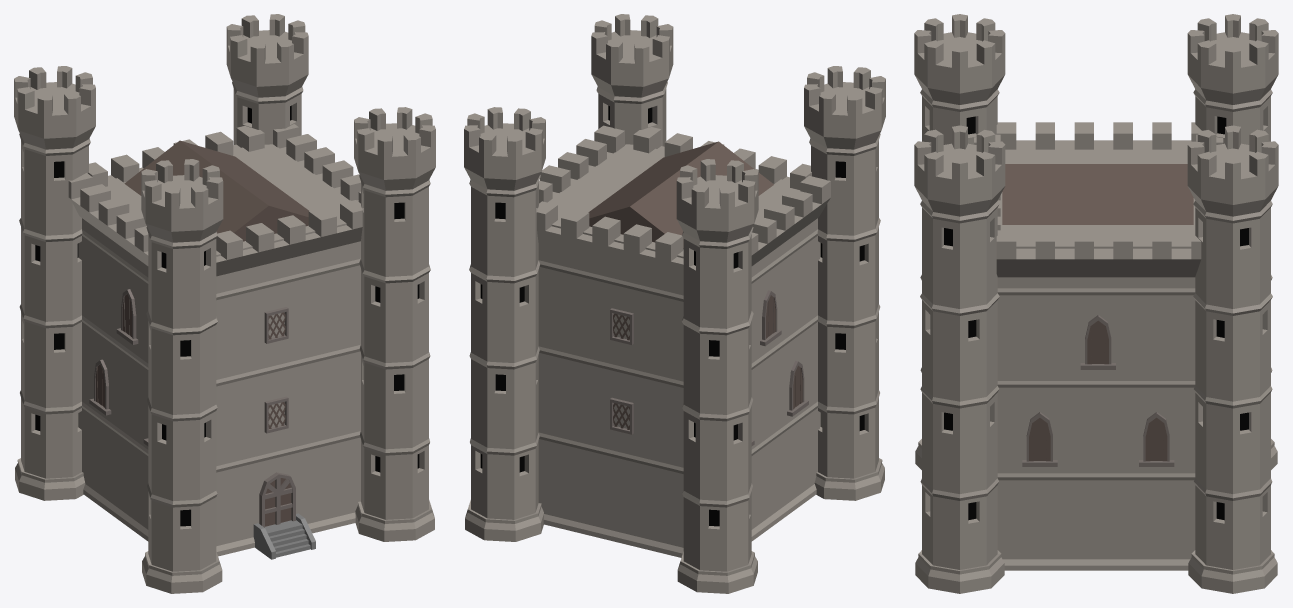
File: 2_2 castle_.fbx
The picture shows the model from 3 angles, left to right: view 1: azimuth 30°, elevation 25°; view 2: azimuth 150°, elevation 25°; view 3: azimuth 270°, elevation 25°; orthographic projection. The views are drawn at different scales.
Parts seen in each view (by area): view 1: Tower_R, castle_Body, Tower_R.002, Roof_castle, Upperwall_castle, Upperwall_castle.002, Upperwall_castle.001, upperwall_castle, Stairs, Castle windows, Door, Door_frame (+1 smaller); view 2: castle_Body, Tower_R.002, Tower_R, Roof_castle, upperwall_castle, Upperwall_castle.002, Upperwall_castle.001, Upperwall_castle, Castle windows; view 3: castle_Body, Tower_R, Tower_R.002, Roof_castle, Upperwall_castle.001, Castle windows, Upperwall_castle.002.
Boxes of the visible parts, x1=… form: Tower_R: x1=141, y1=107, x2=435, y2=593; castle_Body: x1=78, y1=144, x2=360, y2=556; Tower_R.002: x1=14, y1=14, x2=308, y2=500; Roof_castle: x1=124, y1=140, x2=308, y2=241; Upperwall_castle: x1=216, y1=200, x2=362, y2=276; Upperwall_castle.002: x1=68, y1=173, x2=148, y2=265; Upperwall_castle.001: x1=273, y1=124, x2=360, y2=203; upperwall_castle: x1=88, y1=126, x2=264, y2=186; Stairs: x1=253, y1=513, x2=315, y2=559; Castle windows: x1=89, y1=289, x2=148, y2=446; Door: x1=265, y1=478, x2=291, y2=526; Door_frame: x1=259, y1=472, x2=295, y2=527; castle_Body: x1=538, y1=144, x2=819, y2=557; Tower_R.002: x1=464, y1=107, x2=758, y2=593; Tower_R: x1=591, y1=14, x2=885, y2=500; Roof_castle: x1=588, y1=141, x2=773, y2=248; upperwall_castle: x1=537, y1=201, x2=683, y2=278; Upperwall_castle.002: x1=751, y1=176, x2=830, y2=265; Upperwall_castle.001: x1=539, y1=125, x2=624, y2=203; Upperwall_castle: x1=633, y1=127, x2=811, y2=189; Castle windows: x1=751, y1=290, x2=808, y2=446; castle_Body: x1=997, y1=146, x2=1195, y2=570; Tower_R: x1=914, y1=14, x2=1005, y2=593; Tower_R.002: x1=1187, y1=14, x2=1278, y2=593; Roof_castle: x1=1002, y1=164, x2=1193, y2=224; Upperwall_castle.001: x1=996, y1=230, x2=1201, y2=277; Castle windows: x1=1022, y1=315, x2=1174, y2=466; Upperwall_castle.002: x1=996, y1=122, x2=1201, y2=149.
Bounding box in the file's own units: 963 × 1256 × 938.
